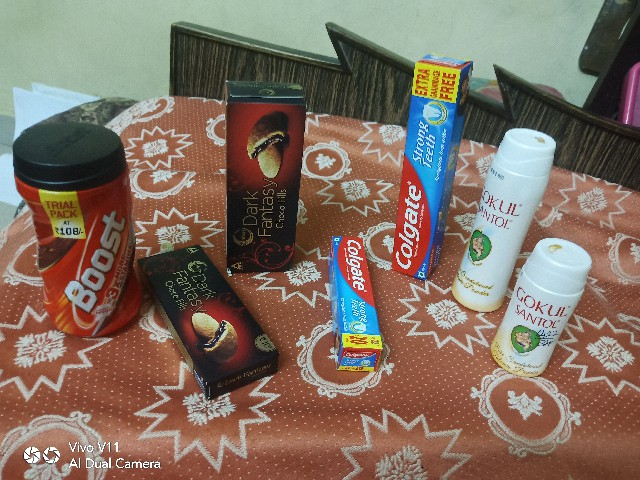boost small: (10, 115, 136, 343)
colgatetoothpaste big: (392, 31, 470, 305)
colgatetoothpaste small: (325, 224, 389, 383)
darkfantasy big: (216, 51, 316, 273)
darkfantasy small: (134, 245, 286, 407)
gokulsantol big: (450, 118, 555, 317)
gokulsantol small: (491, 237, 611, 387)
